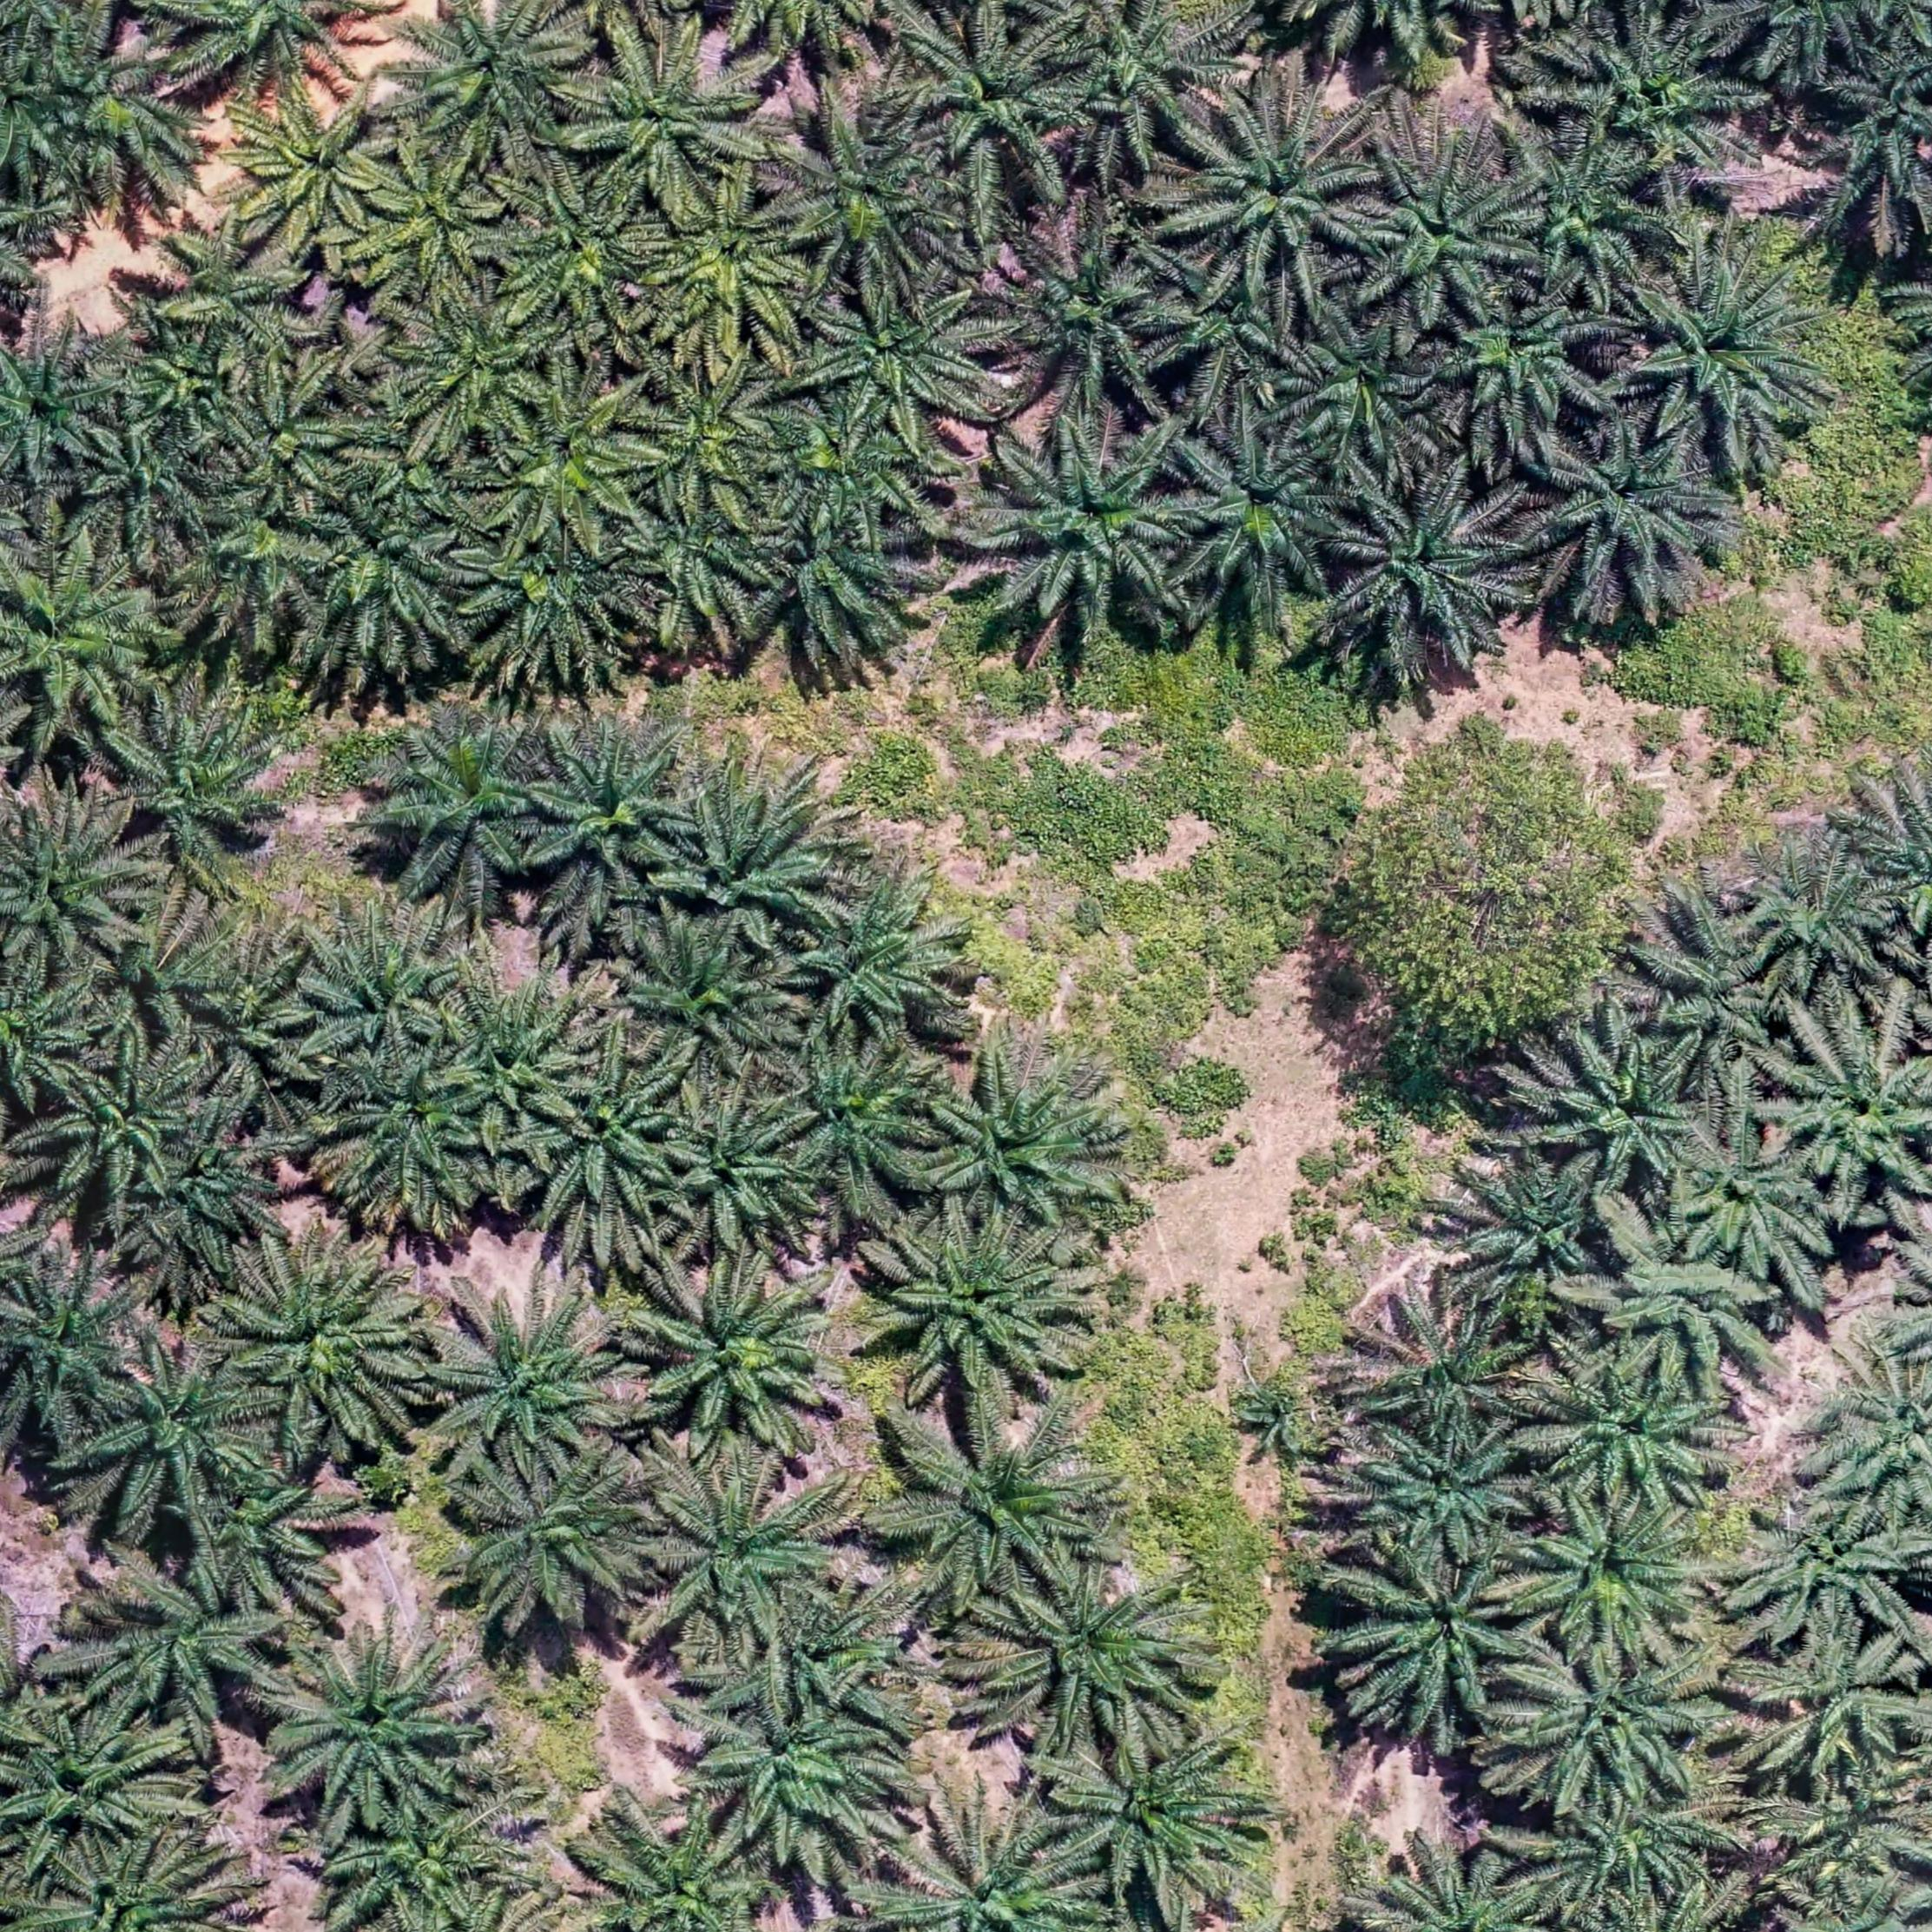palmtree: (973, 426, 1200, 635), (628, 1258, 855, 1460), (260, 1617, 478, 1824), (878, 1408, 1102, 1606), (863, 1212, 1092, 1403), (425, 1279, 640, 1476), (1177, 90, 1384, 290), (978, 1560, 1200, 1746), (223, 1244, 430, 1442), (1624, 248, 1831, 446), (1500, 1637, 1725, 1819), (695, 1686, 913, 1874), (639, 1463, 851, 1654), (1338, 1541, 1543, 1737), (448, 1444, 662, 1631), (985, 218, 1185, 416), (1329, 472, 1529, 660), (1053, 1730, 1256, 1913), (922, 1056, 1125, 1238), (87, 1548, 290, 1727), (1514, 1491, 1721, 1667), (372, 715, 559, 899), (1530, 425, 1723, 603), (0, 550, 179, 743), (901, 14, 1088, 196), (770, 103, 955, 285), (1346, 145, 1534, 326), (1171, 425, 1359, 605), (571, 27, 761, 205), (398, 2, 598, 170), (520, 1058, 702, 1242), (87, 1339, 274, 1518), (1550, 19, 1746, 184), (639, 172, 819, 349), (27, 16, 203, 196), (525, 729, 701, 908), (805, 276, 998, 437), (745, 501, 938, 662), (1741, 1624, 1923, 1794), (786, 872, 962, 1046), (479, 373, 656, 547), (1277, 310, 1458, 479), (4, 1704, 184, 1872), (320, 1042, 497, 1212), (617, 922, 800, 1086), (1051, 0, 1246, 152), (1732, 1495, 1918, 1654), (1525, 1782, 1734, 1923), (1536, 1352, 1725, 1507), (660, 786, 840, 948), (460, 522, 653, 672), (1541, 1030, 1720, 1191), (306, 495, 487, 655), (1435, 285, 1621, 439), (133, 708, 287, 893), (228, 88, 403, 251), (879, 1803, 1099, 1932), (439, 971, 607, 1139), (301, 908, 478, 1067), (1500, 133, 1672, 295), (329, 1785, 524, 1928), (1776, 1017, 1932, 1196), (494, 168, 663, 331), (35, 1044, 207, 1205), (387, 285, 559, 446), (1606, 1238, 1785, 1392), (0, 796, 150, 977), (777, 1035, 947, 1192), (564, 1808, 780, 1932), (660, 1099, 826, 1256), (1642, 908, 1796, 1077), (1359, 1419, 1543, 1560), (1670, 1116, 1831, 1277), (1453, 1157, 1617, 1315), (149, 212, 313, 370), (628, 357, 794, 513), (0, 1265, 149, 1437), (1369, 1299, 1541, 1445), (357, 145, 518, 301), (186, 490, 320, 663), (1810, 34, 1932, 223), (184, 1461, 343, 1606), (763, 405, 934, 540), (617, 492, 778, 633), (138, 1116, 290, 1265), (1152, 257, 1309, 400), (1760, 1769, 1927, 1904), (21, 1835, 239, 1932), (1812, 1345, 1932, 1520), (1744, 862, 1902, 994), (216, 364, 364, 502), (182, 952, 320, 1099), (173, 0, 382, 94), (0, 336, 126, 490), (78, 418, 219, 540), (0, 964, 104, 1122), (124, 322, 242, 435), (349, 426, 479, 524)
